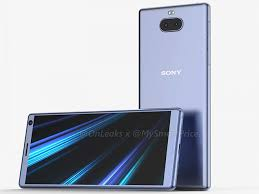sony: (134, 1, 214, 194), (18, 109, 184, 194)
